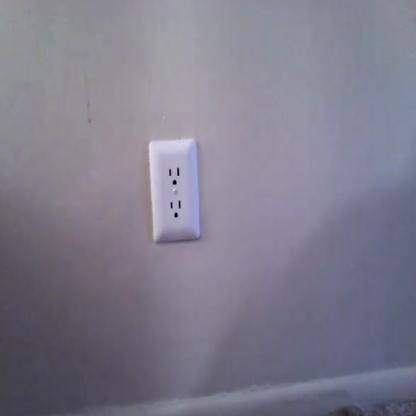OUTLET: (148, 140, 201, 243)
